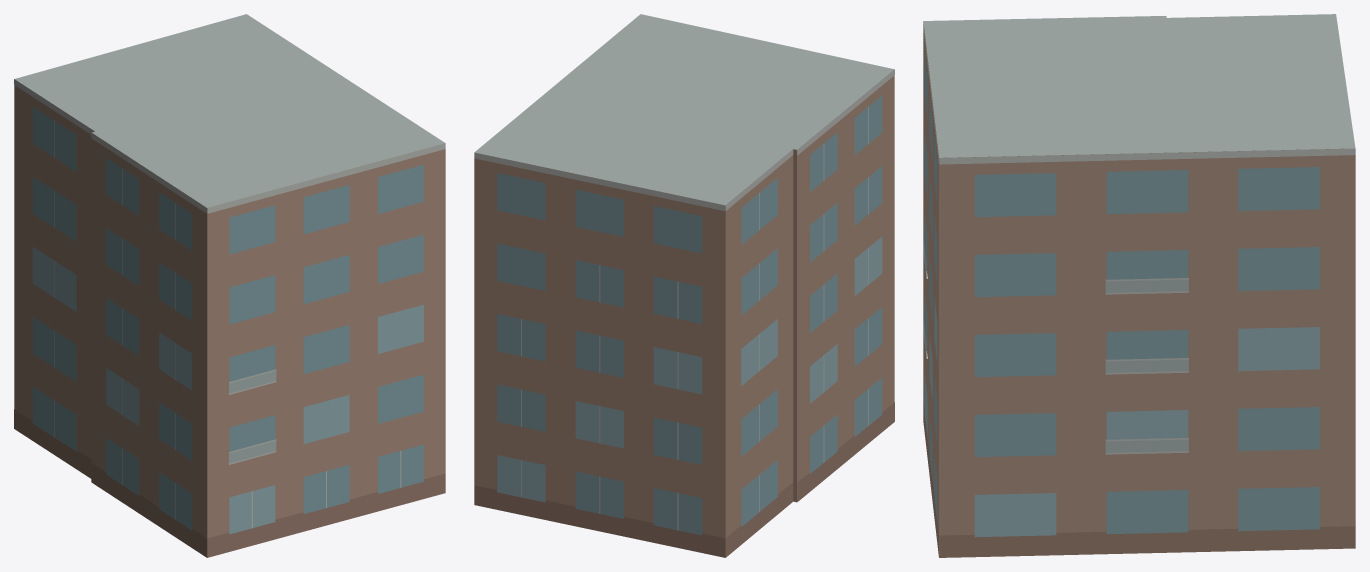
File: survey-upis-33035614.glb
The picture shows the model from 3 angles, left to right: view 1: azimuth 30°, elevation 25°; view 2: azimuth 150°, elevation 25°; view 3: azimuth 270°, elevation 25°; orthographic projection. The views are drawn at different scales.
Parts seen in each view (by area): view 1: survey-upis-33035614.tmp; view 2: survey-upis-33035614.tmp; view 3: survey-upis-33035614.tmp.
Boxes of the visible parts, <box> form: survey-upis-33035614.tmp: <box>14,14,445,557</box>; survey-upis-33035614.tmp: <box>474,14,894,557</box>; survey-upis-33035614.tmp: <box>923,14,1355,557</box>.
Bounding box in the file's own units: 11.31 × 14.65 × 14.35.
